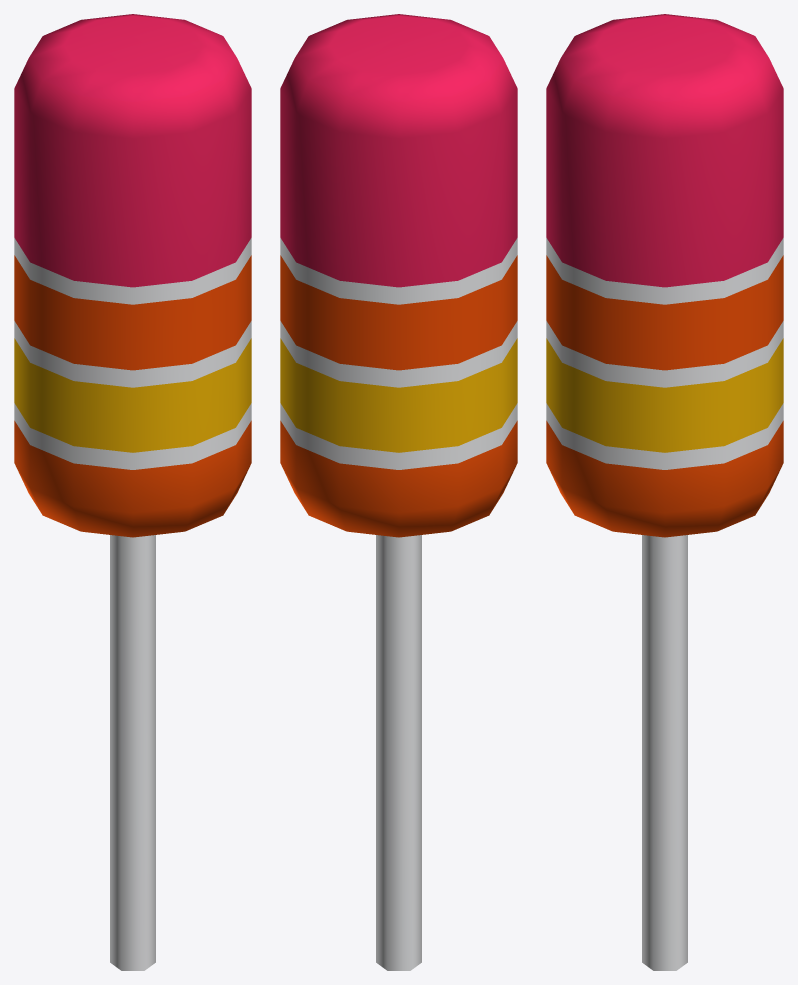
File: lollipop_023.glb
3 renders of one model, left to right at view 1: azimuth 30°, elevation 25°; view 2: azimuth 150°, elevation 25°; view 3: azimuth 270°, elevation 25°, orthographic.
Parts seen in each view (by area): view 1: lollipop_023; view 2: lollipop_023; view 3: lollipop_023.
Boxes of the visible parts, left/top/right/bottom form: lollipop_023: left=14, top=14, right=251, bottom=970; lollipop_023: left=280, top=14, right=517, bottom=970; lollipop_023: left=546, top=14, right=783, bottom=970.
Bounding box in the file's own units: 1.17 × 5 × 1.17.
1 material, 1 textured.
